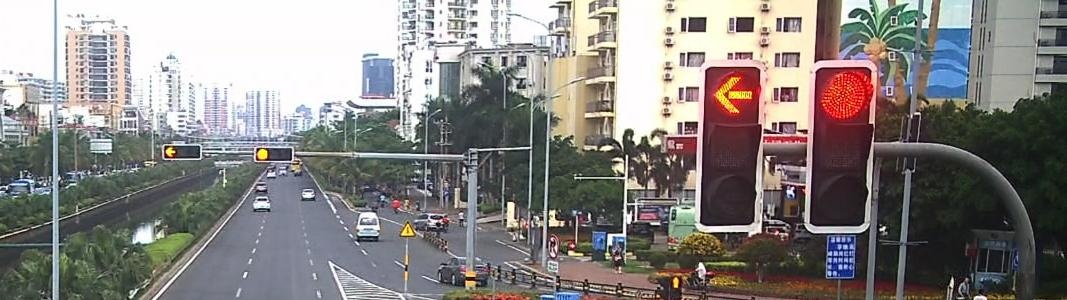red: (816, 71, 870, 121), (255, 148, 271, 163)
redleft: (712, 70, 755, 120), (164, 144, 177, 160)
redpeople: (669, 277, 684, 289)
